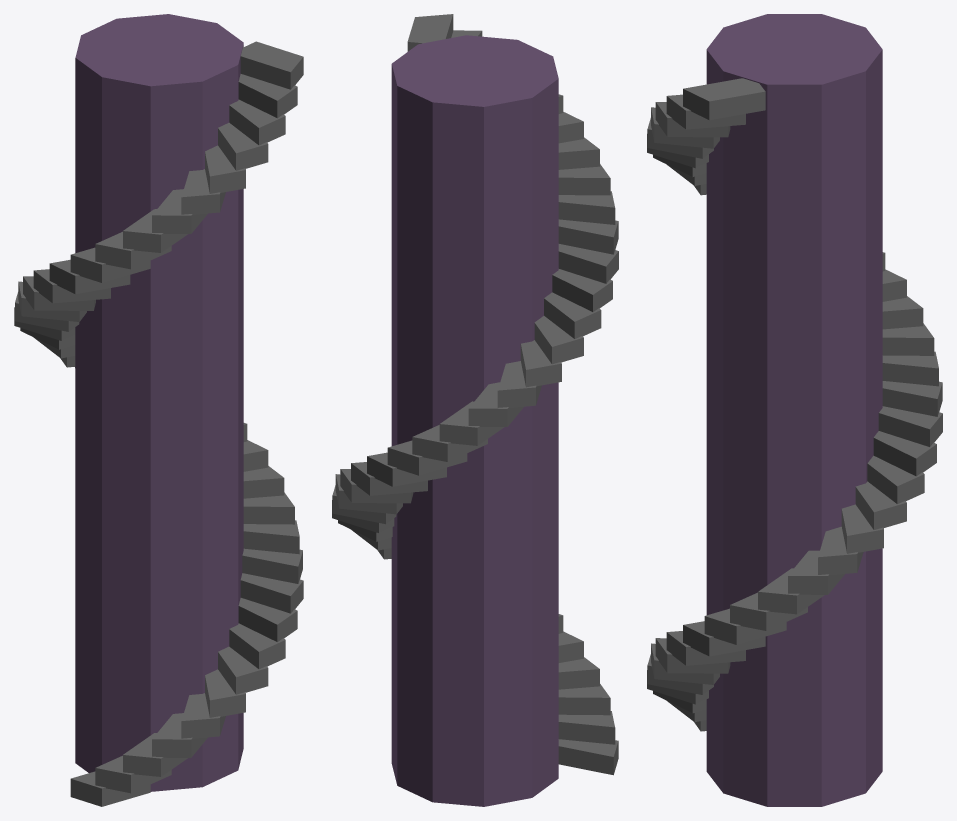
File: 6.Magic tower.fbx
3 views of the same model, side by side, from view 1: azimuth 30°, elevation 25°; view 2: azimuth 150°, elevation 25°; view 3: azimuth 270°, elevation 25° (orthographic). The views are drawn at different scales.
Visible parts, largest first — view 1: Circle; view 2: Circle; view 3: Circle.
Boxes of the visible parts, left/top/right/bottom form: Circle: left=14, top=14, right=303, bottom=806; Circle: left=332, top=14, right=618, bottom=806; Circle: left=647, top=14, right=942, bottom=806.
Bounding box in the file's own units: 767 × 2056 × 764.
